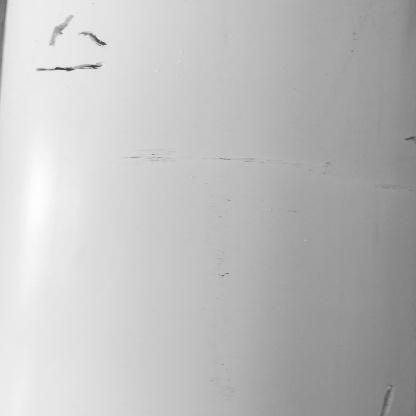sunshang: (43, 13, 109, 50), (18, 64, 113, 72), (379, 381, 402, 414)
